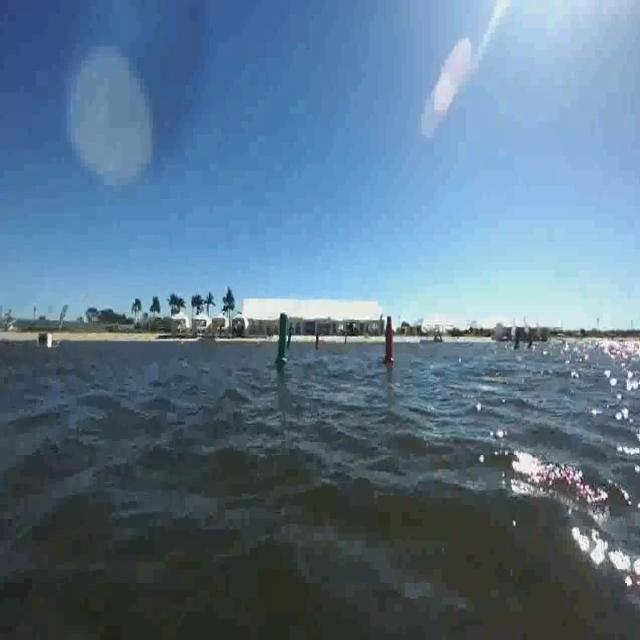green-column-buoy: (274, 313, 293, 367)
red-column-buoy: (379, 316, 394, 367)
